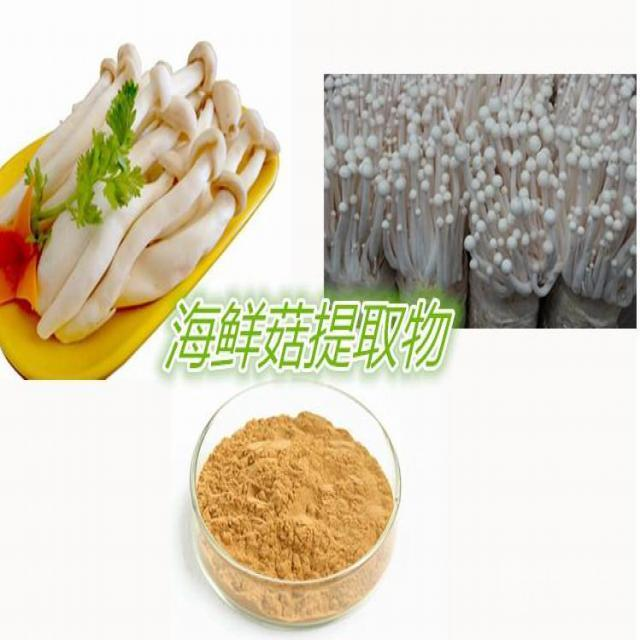Hypsizygus marmoreus: (1, 43, 269, 340), (326, 72, 637, 301)
